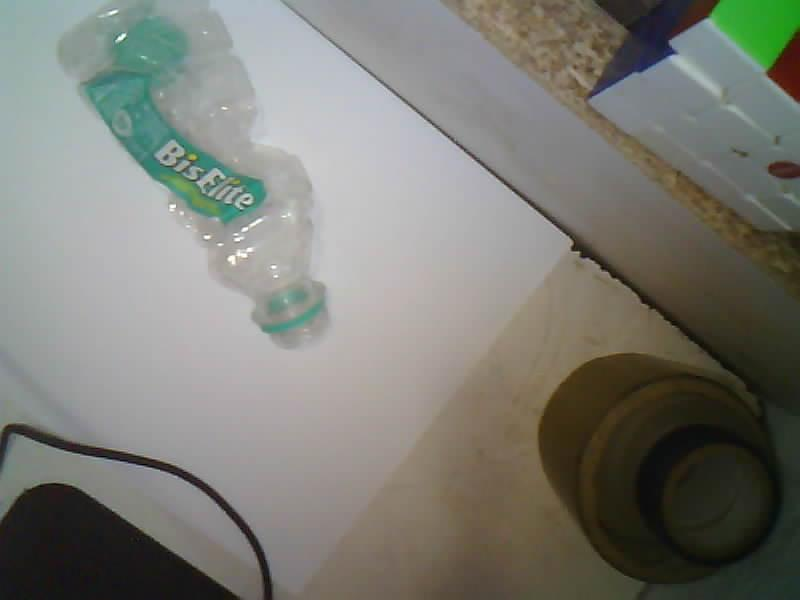non-biodegradable: (59, 0, 326, 346)
